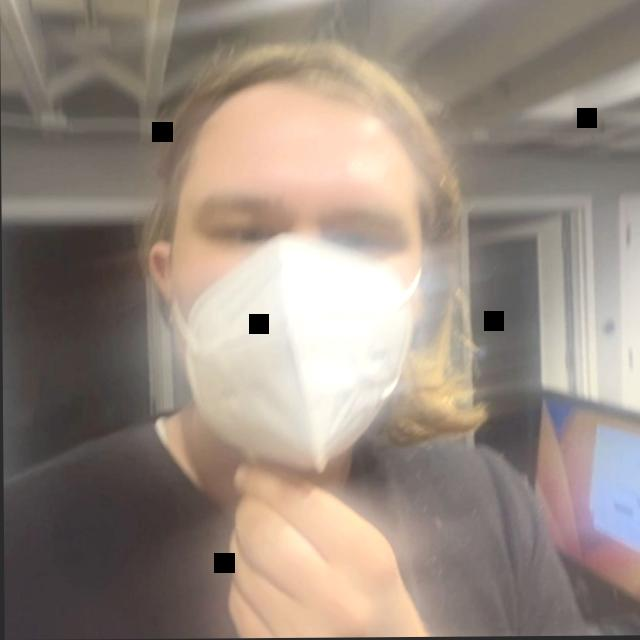Mask: (127, 44, 482, 478)
